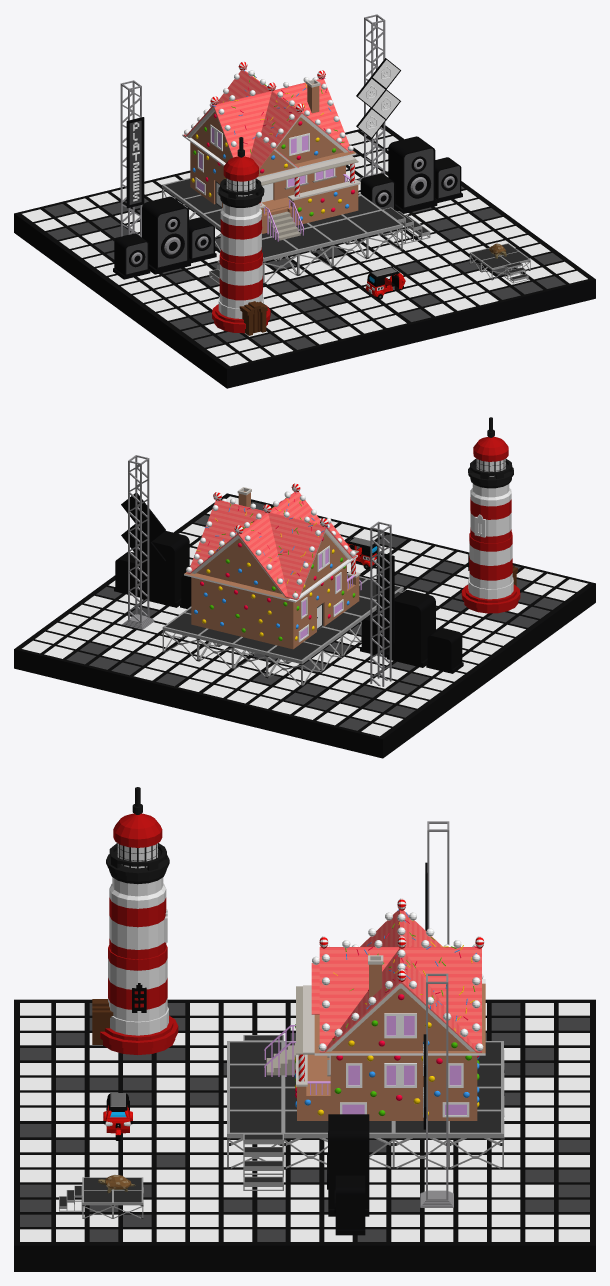
The picture shows the model from 3 angles, top to bottom: view 1: azimuth 30°, elevation 25°; view 2: azimuth 150°, elevation 25°; view 3: azimuth 270°, elevation 25°; orthographic projection. The views are drawn at different scales.
Visible parts, largest first — view 1: Cube.008, Cube.1203, OBJRANDOM_LIGHTHOUSE, VEHICLES_TUC_TUC; view 2: Cube.008, Cube.1203, OBJRANDOM_LIGHTHOUSE, VEHICLES_TUC_TUC; view 3: Cube.008, Cube.1203, OBJRANDOM_LIGHTHOUSE, VEHICLES_TUC_TUC.
Boxes of the visible parts, <box> form: Cube.008: <box>14,14,595,388</box>; Cube.1203: <box>182,61,360,241</box>; OBJRANDOM_LIGHTHOUSE: <box>212,137,270,335</box>; VEHICLES_TUC_TUC: <box>365,267,405,299</box>; Cube.008: <box>14,455,595,758</box>; Cube.1203: <box>184,483,361,649</box>; OBJRANDOM_LIGHTHOUSE: <box>461,417,520,613</box>; VEHICLES_TUC_TUC: <box>347,537,377,569</box>; Cube.008: <box>14,821,595,1271</box>; Cube.1203: <box>264,898,485,1120</box>; OBJRANDOM_LIGHTHOUSE: <box>92,787,178,1054</box>; VEHICLES_TUC_TUC: <box>103,1093,132,1140</box>.
Bounding box in the file's own units: 4000 × 2335 × 4000.
52 materials, 2 textured.
